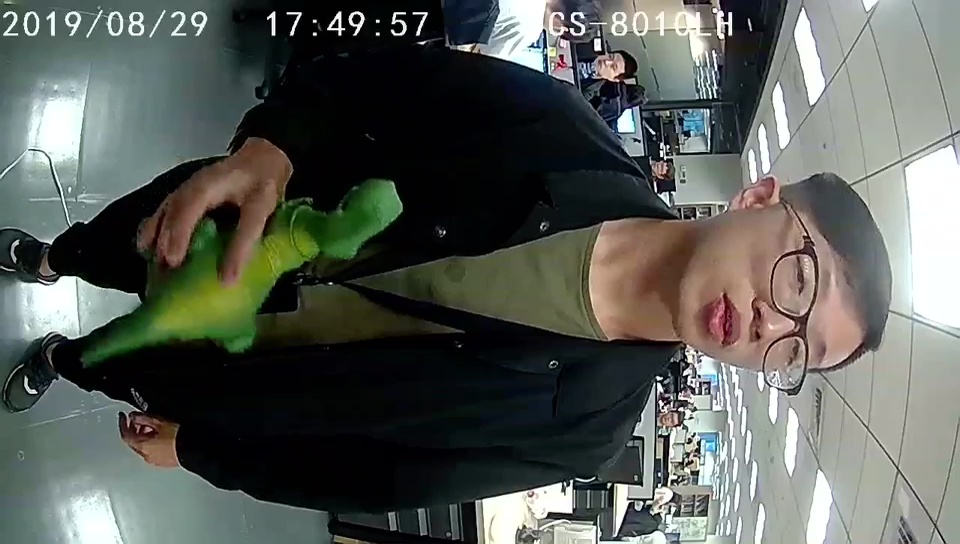rex: (132, 176, 403, 352)
